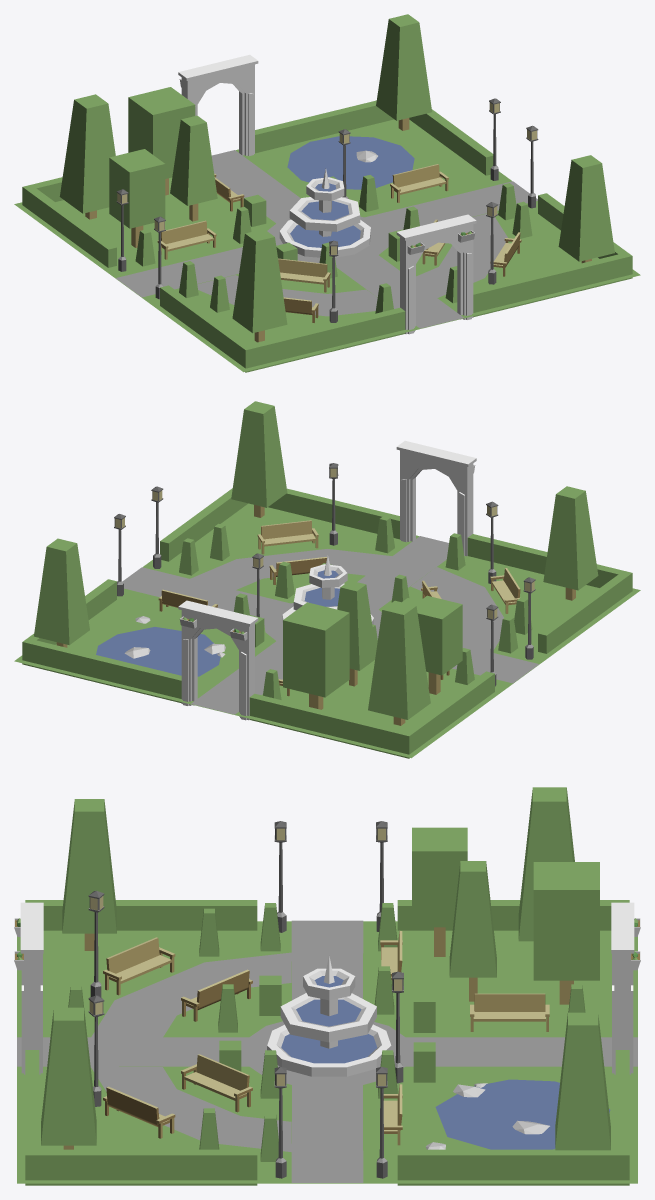
The model's file is park_002.fbx.
3 renders of one model, top to bottom at view 1: azimuth 30°, elevation 25°; view 2: azimuth 150°, elevation 25°; view 3: azimuth 270°, elevation 25°, orthographic. The views are drawn at different scales.
Parts seen in each view (by area): view 1: park_002; view 2: park_002; view 3: park_002.
Part boxes in pixels (x1,y1,x2,y2): park_002: (14,14,640,372); park_002: (14,401,640,758); park_002: (14,787,640,1185).
Size of the model in its own units: 1600 by 513 by 1616.
